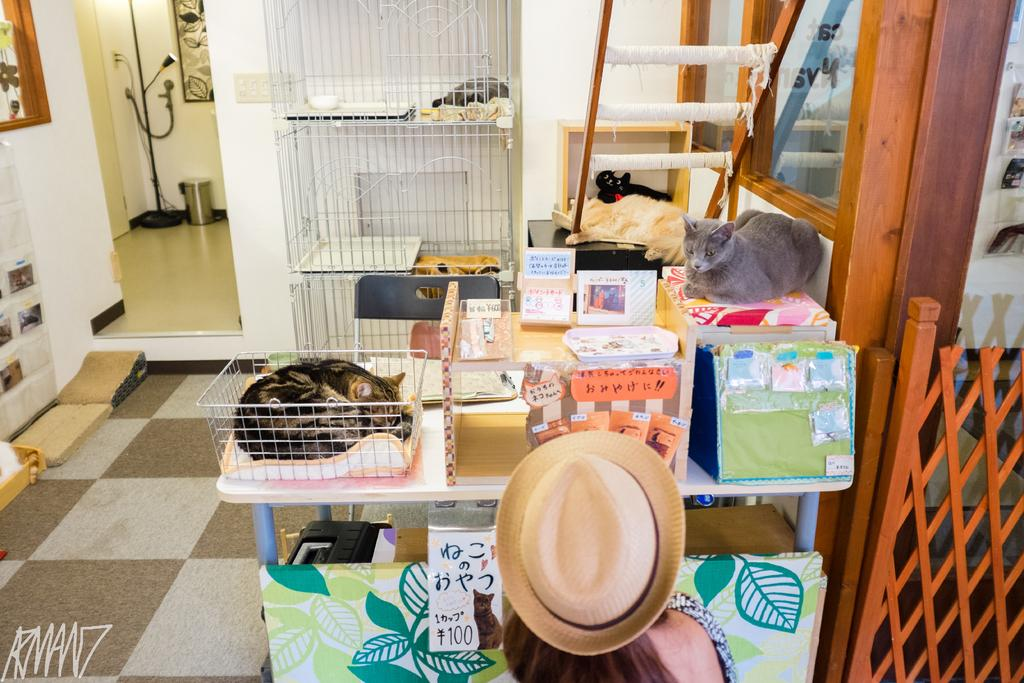Hat: (492, 427, 686, 664)
